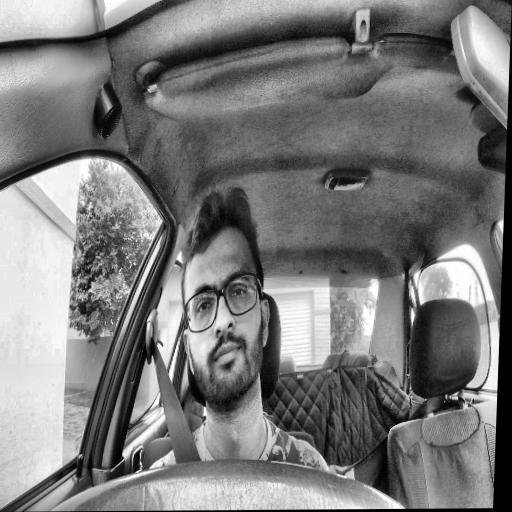awake: (175, 183, 276, 416)
